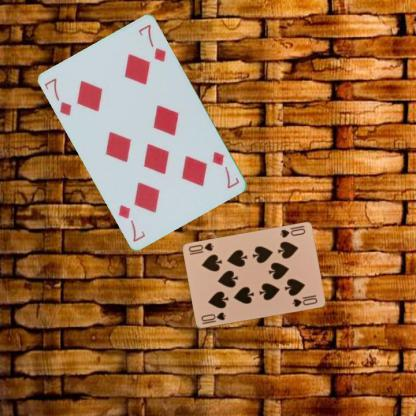10s: (198, 310, 227, 325), (277, 226, 306, 239)
7d: (42, 75, 74, 119), (209, 149, 241, 190)
